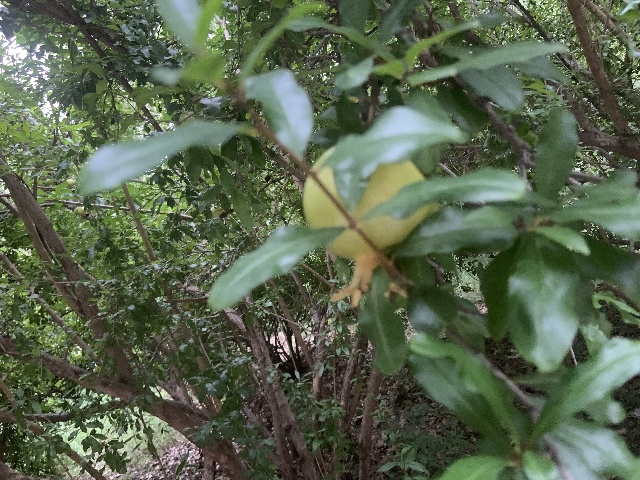mid-growth: (302, 146, 436, 310), (77, 206, 89, 217)
